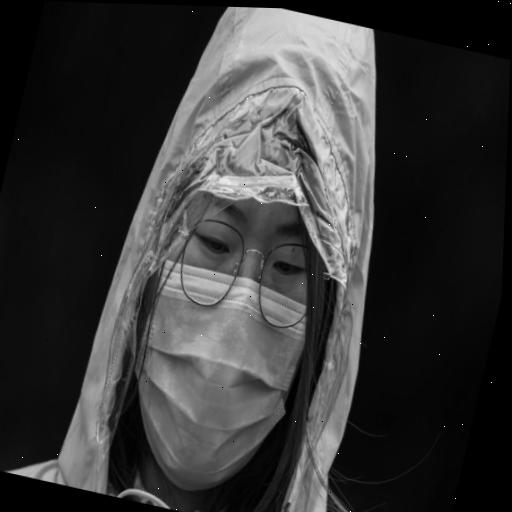mask: (97, 148, 364, 512)
